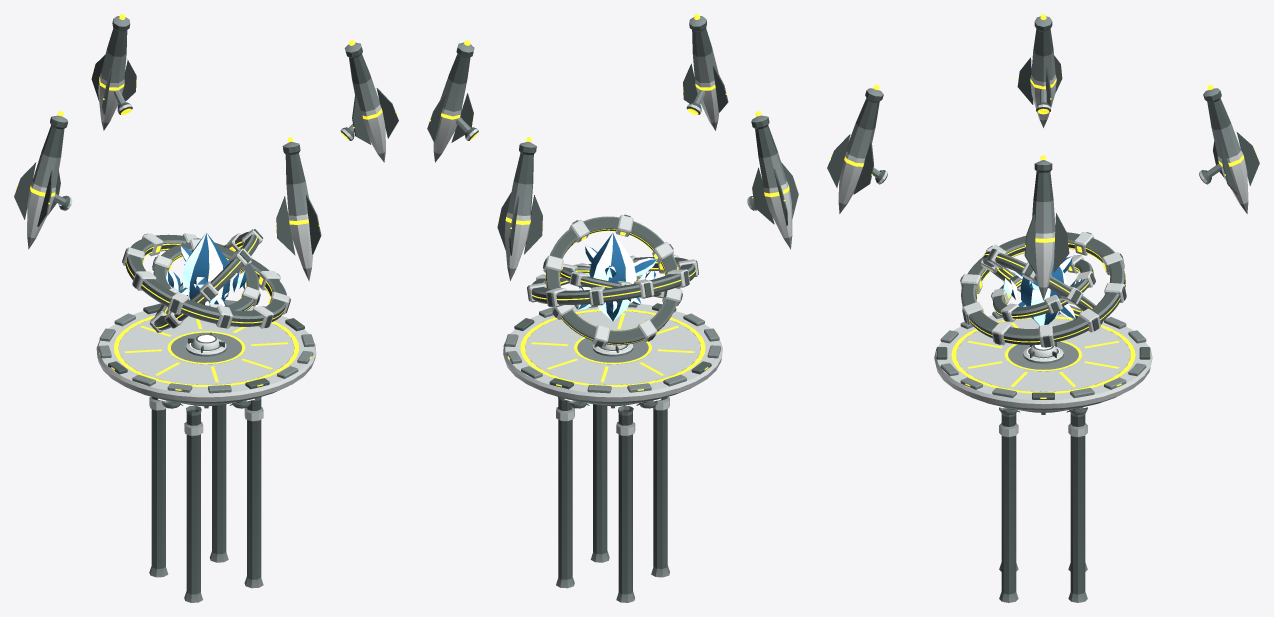
The model's file is nucleo.glb.
3 views of the same model, side by side, from view 1: azimuth 30°, elevation 25°; view 2: azimuth 150°, elevation 25°; view 3: azimuth 270°, elevation 25° (orthographic).
Visible parts, largest first — view 1: nucleo_base, nucleo_estabilizadores, nucleo, nucleo_cristal; view 2: nucleo_base, nucleo_estabilizadores, nucleo, nucleo_cristal; view 3: nucleo_base, nucleo_estabilizadores, nucleo, nucleo_cristal.
Boxes of the visible parts, box(x1,y1,x2,y2) form: nucleo_base: box(96, 300, 316, 602); nucleo_estabilizadores: box(14, 14, 398, 281); nucleo: box(122, 229, 290, 332); nucleo_cristal: box(179, 233, 230, 306); nucleo_base: box(503, 302, 722, 602); nucleo_estabilizadores: box(427, 14, 798, 280); nucleo: box(527, 214, 698, 346); nucleo_cristal: box(578, 233, 657, 321); nucleo_base: box(934, 311, 1152, 602); nucleo_estabilizadores: box(827, 14, 1259, 300); nucleo: box(960, 231, 1126, 347); nucleo_cristal: box(1013, 256, 1075, 325).
Size of the model in its own units: 103 by 135 by 106.
